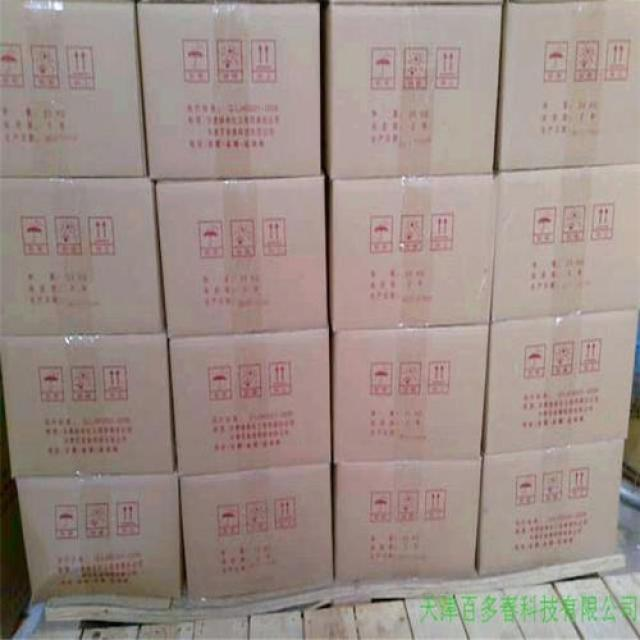box: (137, 1, 320, 178), (325, 3, 503, 177), (156, 177, 327, 336), (328, 175, 500, 332), (0, 1, 147, 178), (0, 177, 164, 335), (496, 1, 638, 172), (0, 336, 173, 475), (169, 330, 332, 477), (490, 165, 639, 324), (178, 460, 334, 605), (486, 308, 636, 456), (16, 475, 182, 605), (334, 326, 490, 463), (477, 441, 626, 577), (336, 459, 479, 587)
